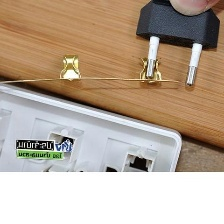three_eye_plug: (0, 77, 186, 181)
